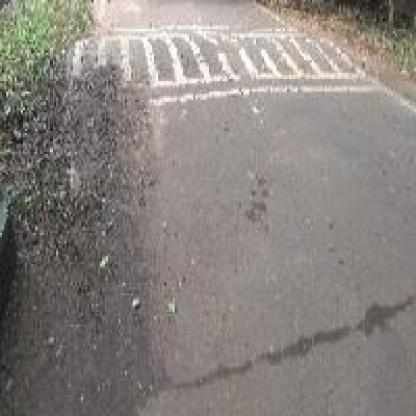Speed Bump: (56, 21, 389, 96)
